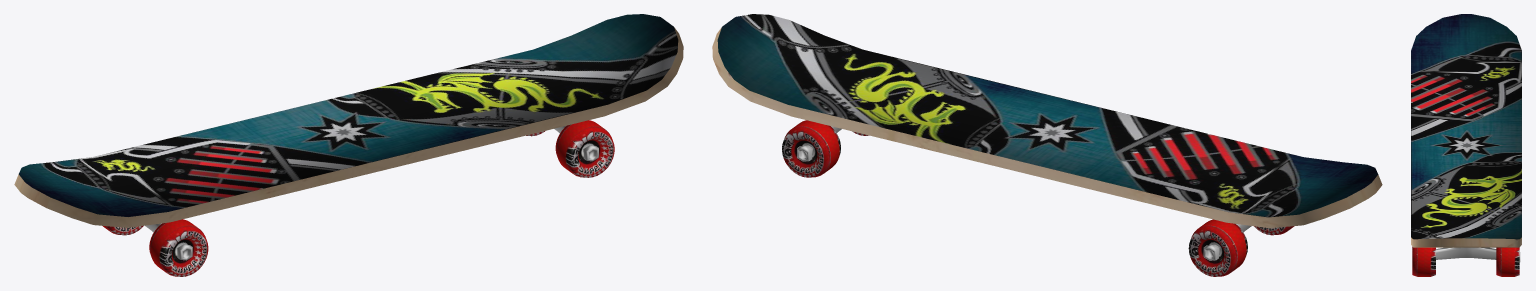
3 views of the same model, side by side, from view 1: azimuth 30°, elevation 25°; view 2: azimuth 150°, elevation 25°; view 3: azimuth 270°, elevation 25° (orthographic). The views are drawn at different scales.
Parts seen in each view (by area): view 1: board01, wheel01.003, wheel01.000; view 2: board01, wheel01.002, wheel01.001; view 3: board01, undercarriage, wheel01.000, wheel01.001.
Part boxes in pixels (box(x1,y1,x2,y2)): board01: box(14, 14, 683, 227); wheel01.003: box(149, 219, 208, 276); wheel01.000: box(555, 120, 614, 177); board01: box(712, 14, 1382, 228); wheel01.002: box(1188, 219, 1247, 276); wheel01.001: box(782, 120, 840, 177); board01: box(1411, 14, 1521, 247); undercarriage: box(1436, 247, 1520, 262); wheel01.000: box(1412, 246, 1435, 276); wheel01.001: box(1496, 247, 1519, 276).
Size of the model in its own units: 2.97 by 0.4552 by 0.5972.
Materials: 3 (2 with a texture image).
